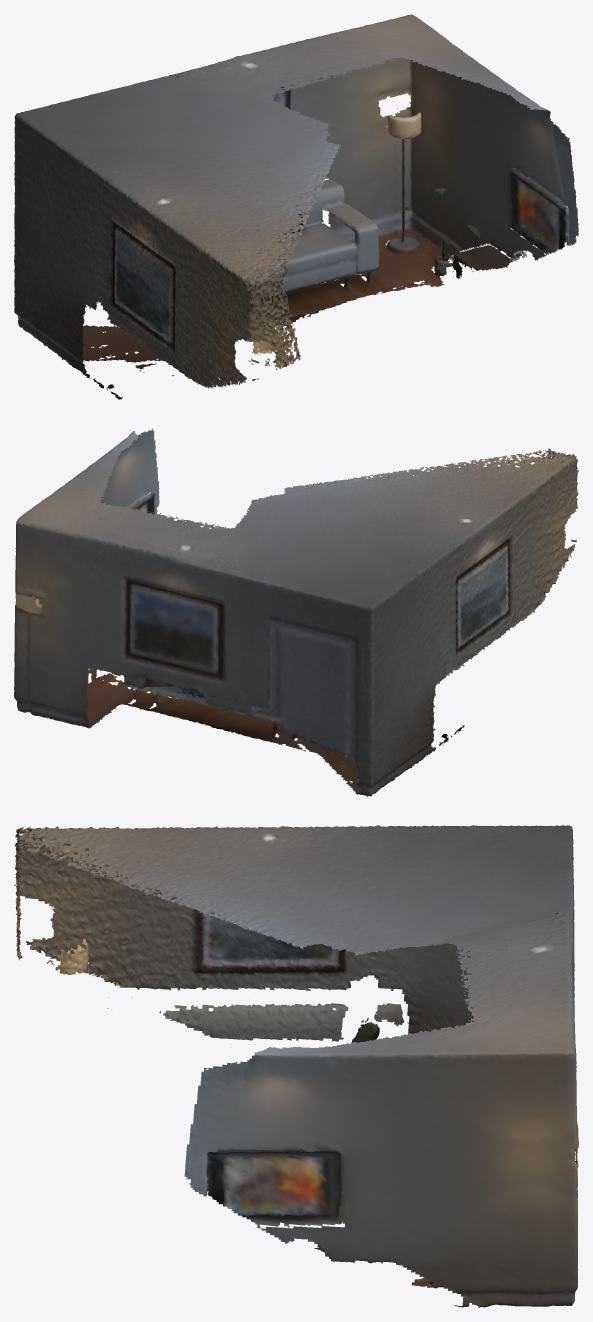
Rendered from tsdf_estimated.glb.
3 renders of one model, top to bottom at view 1: azimuth 30°, elevation 25°; view 2: azimuth 150°, elevation 25°; view 3: azimuth 270°, elevation 25°, orthographic. The views are drawn at different scales.
Size of the model in its own units: 4.95 by 2.57 by 5.05.
